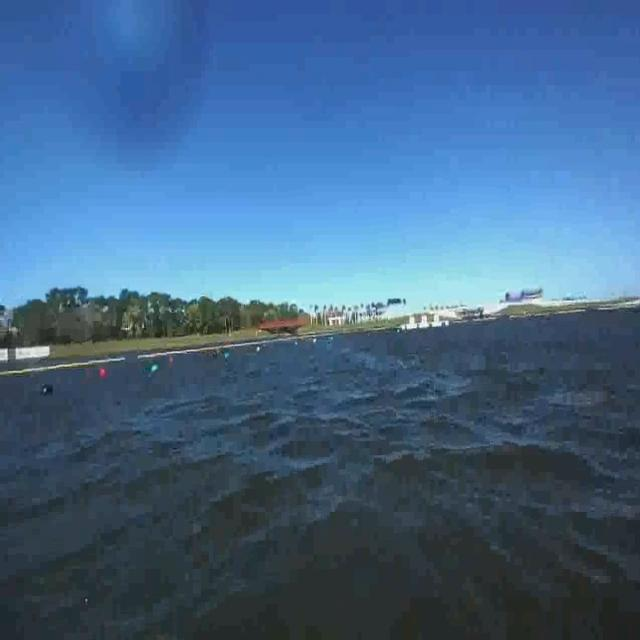red-buoy: (98, 367, 105, 377)
